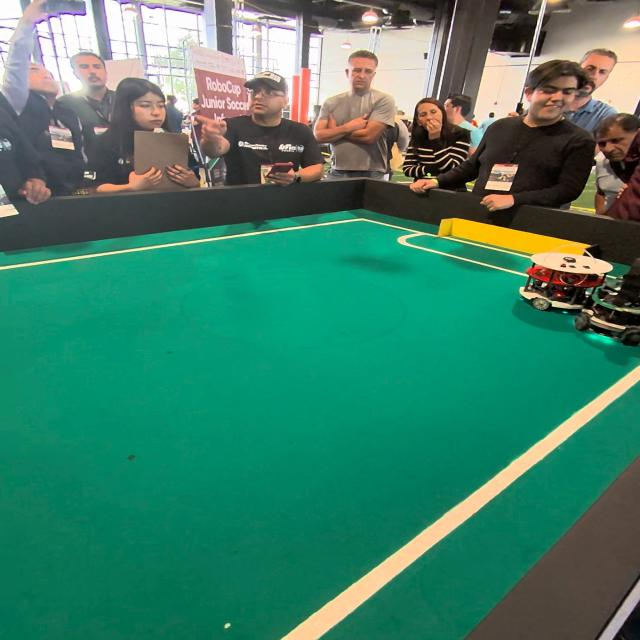Robot: (517, 246, 602, 319), (586, 251, 640, 355)
